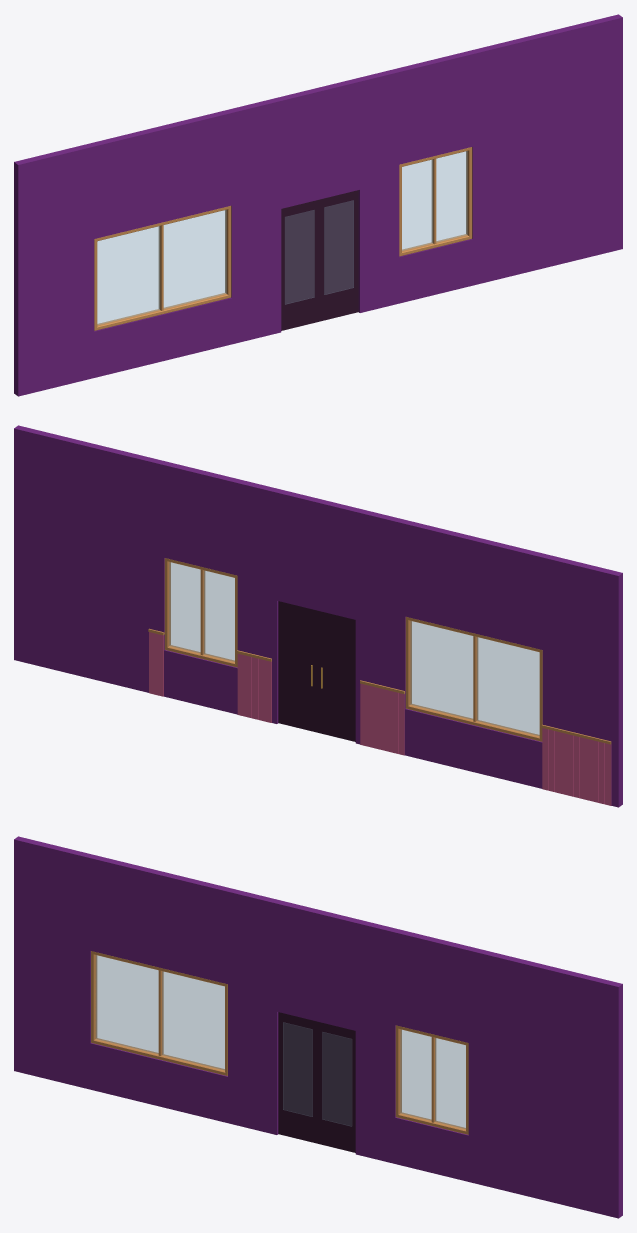
3 views of the same model, one above another, from view 1: azimuth 30°, elevation 25°; view 2: azimuth 150°, elevation 25°; view 3: azimuth 330°, elevation 25° (orthographic).
Visible parts, largest first — view 1: wall_f_3, wall_f_0, wall_f_head_0, wall_f_1, shop_window_0_glass, wall_f_2, wall_f_door_head, wall_f_head_1, wall_f_sill_0, shop_window_1_glass, entrance_door_r_stile, entrance_door_l_stile (+5 smaller); view 2: wall_f_3, wall_f_0, wall_f_head_0, shop_window_0_glass, wall_f_1, wall_f_door_head, wall_f_2, wall_f_head_1, wall_f_sill_0, shop_window_1_glass, entrance_door_r_stile, entrance_door_l_stile (+3 smaller); view 3: wall_f_3, wall_f_0, wall_f_head_0, wall_f_1, shop_window_0_glass, wall_f_2, wall_f_door_head, wall_f_head_1, wall_f_sill_0, shop_window_1_glass, entrance_door_l_stile, entrance_door_r_stile (+5 smaller).
Boxes of the visible parts, <box> form: wall_f_3: <box>469,14,622,285</box>; wall_f_0: <box>14,143,94,396</box>; wall_f_head_0: <box>90,110,231,238</box>; wall_f_1: <box>228,98,281,344</box>; shop_window_0_glass: <box>97,210,226,324</box>; wall_f_2: <box>356,69,399,312</box>; wall_f_door_head: <box>277,78,359,208</box>; wall_f_head_1: <box>395,51,472,164</box>; wall_f_sill_0: <box>94,297,231,377</box>; shop_window_1_glass: <box>402,151,467,250</box>; entrance_door_r_stile: <box>319,190,358,321</box>; entrance_door_l_stile: <box>281,200,319,330</box>; wall_f_3: <box>14,425,167,692</box>; wall_f_0: <box>542,554,622,807</box>; wall_f_head_0: <box>405,521,546,649</box>; shop_window_0_glass: <box>410,621,539,735</box>; wall_f_1: <box>355,509,408,754</box>; wall_f_door_head: <box>277,489,359,619</box>; wall_f_2: <box>237,480,280,723</box>; wall_f_head_1: <box>164,462,241,575</box>; wall_f_sill_0: <box>405,708,542,788</box>; shop_window_1_glass: <box>169,562,234,661</box>; entrance_door_r_stile: <box>278,601,317,732</box>; entrance_door_l_stile: <box>317,611,355,741</box>; wall_f_3: <box>468,947,622,1218</box>; wall_f_0: <box>14,836,93,1089</box>; wall_f_head_0: <box>90,855,231,984</box>; wall_f_1: <box>228,888,280,1134</box>; shop_window_0_glass: <box>96,955,224,1070</box>; wall_f_2: <box>355,920,398,1163</box>; wall_f_door_head: <box>277,900,359,1030</box>; wall_f_head_1: <box>395,929,472,1042</box>; wall_f_sill_0: <box>90,1043,227,1122</box>; shop_window_1_glass: <box>400,1029,465,1128</box>; entrance_door_l_stile: <box>278,1012,317,1143</box>; entrance_door_r_stile: <box>317,1022,355,1152</box>.
Bounding box in the file's own units: 12.3 × 4.5 × 0.175.
